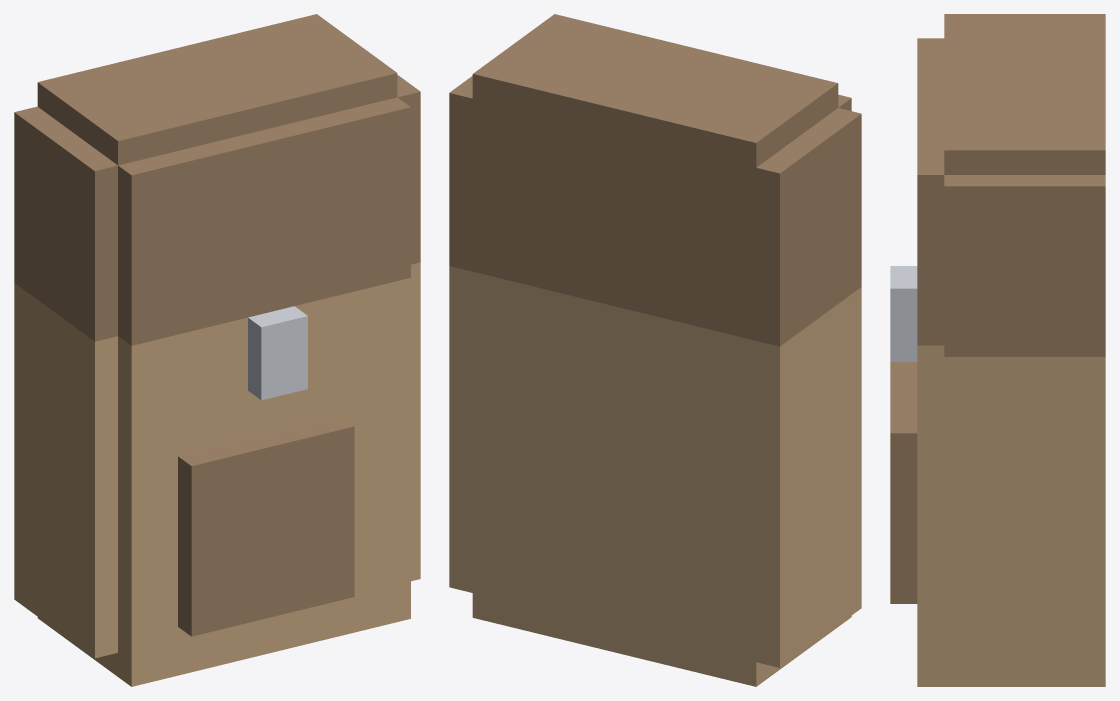
Rendered from backpack_small.glb.
3 views of the same model, side by side, from view 1: azimuth 30°, elevation 25°; view 2: azimuth 150°, elevation 25°; view 3: azimuth 270°, elevation 25° (orthographic).
Parts seen in each view (by area): view 1: item; view 2: item; view 3: item.
Part boxes in pixels (box(x1,y1,x2,y2)): item: box(14, 14, 420, 686); item: box(449, 14, 861, 686); item: box(890, 14, 1105, 686).
Bounding box in the file's own units: 14 × 22 × 8.
